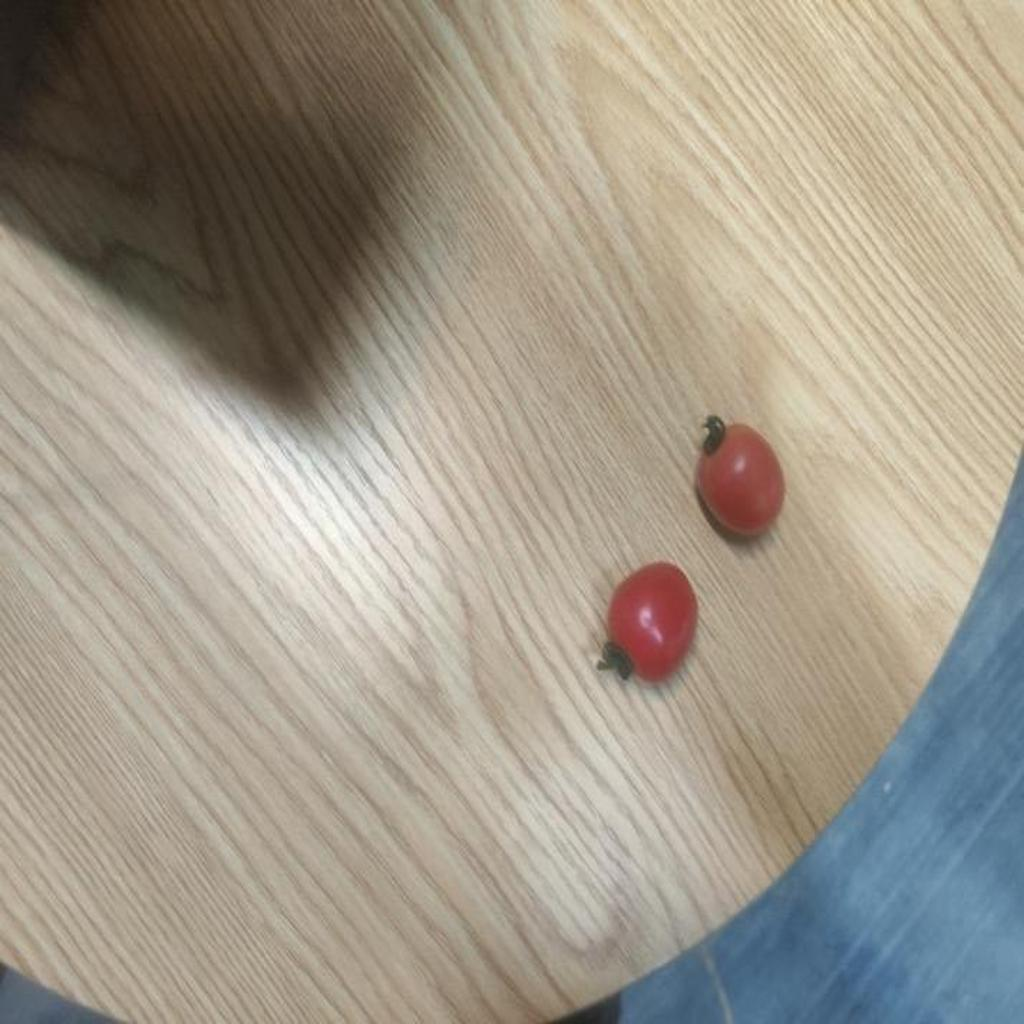tomato: (598, 559, 698, 683), (686, 419, 789, 537)
